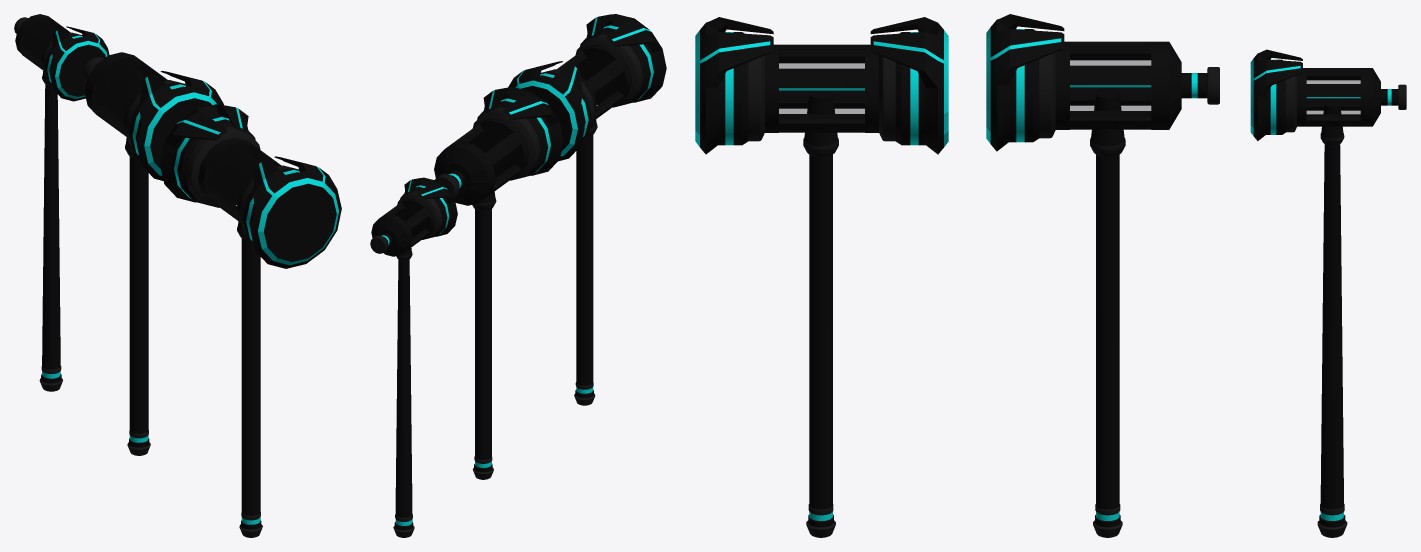
The model's file is Maces.fbx.
3 renders of one model, left to right at view 1: azimuth 30°, elevation 25°; view 2: azimuth 150°, elevation 25°; view 3: azimuth 270°, elevation 25°, orthographic. The views are drawn at different scales.
Visible parts, largest first — view 1: DoubleHammerLeft, HammerLarge1, DoubleHammerRight, HandleLarge1, HandleLarge, HandleSmall1, HammerSmall1, GlassDouble, GlassLarge1, GlassLargeSmall1; view 2: HammerLarge1, DoubleHammerLeft, HandleLarge, HandleLarge1, DoubleHammerRight, HammerSmall1, HandleSmall1, GlassLarge1, GlassDouble, GlassLargeSmall1; view 3: HammerLarge1, DoubleHammerLeft, DoubleHammerRight, HandleLarge1, HandleLarge, HammerSmall1, HandleSmall1, GlassDouble, GlassLarge1, GlassLargeSmall1.
Part boxes in pixels (x1,y1,x2,y2): DoubleHammerLeft: (223,156,341,268); HammerLarge1: (83,52,223,180); DoubleHammerRight: (160,104,268,214); HandleLarge1: (125,137,150,455); HandleLarge: (237,221,262,537); HandleSmall1: (39,71,62,391); HammerSmall1: (14,14,109,101); GlassDouble: (207,146,264,211); GlassLarge1: (95,61,150,128); GlassLargeSmall1: (23,21,58,62); HammerLarge1: (434,87,563,205); DoubleHammerLeft: (567,14,666,113); HandleLarge: (574,119,597,405); HandleLarge1: (472,191,496,479); DoubleHammerRight: (508,61,609,161); HammerSmall1: (370,177,457,256); HandleSmall1: (393,248,414,537); GlassLarge1: (462,124,521,184); GlassDouble: (572,51,623,110); GlassLargeSmall1: (392,203,428,240); HammerLarge1: (986,14,1219,151); DoubleHammerLeft: (695,17,864,154); DoubleHammerRight: (820,17,948,154); HandleLarge1: (1090,88,1125,537); HandleLarge: (803,91,838,537); HammerSmall1: (1250,49,1406,140); HandleSmall1: (1317,100,1347,537); GlassDouble: (779,49,864,118); GlassLarge1: (1070,45,1150,116); GlassLargeSmall1: (1307,71,1360,116).
Size of the model in its own units: 11.21 by 47.05 by 59.04.
